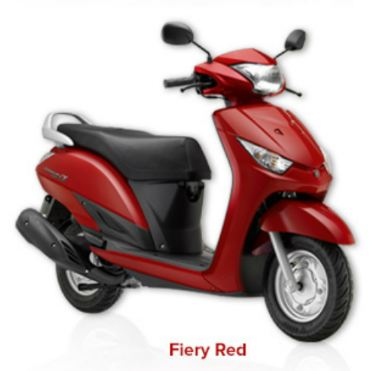bike: (14, 17, 354, 342)
